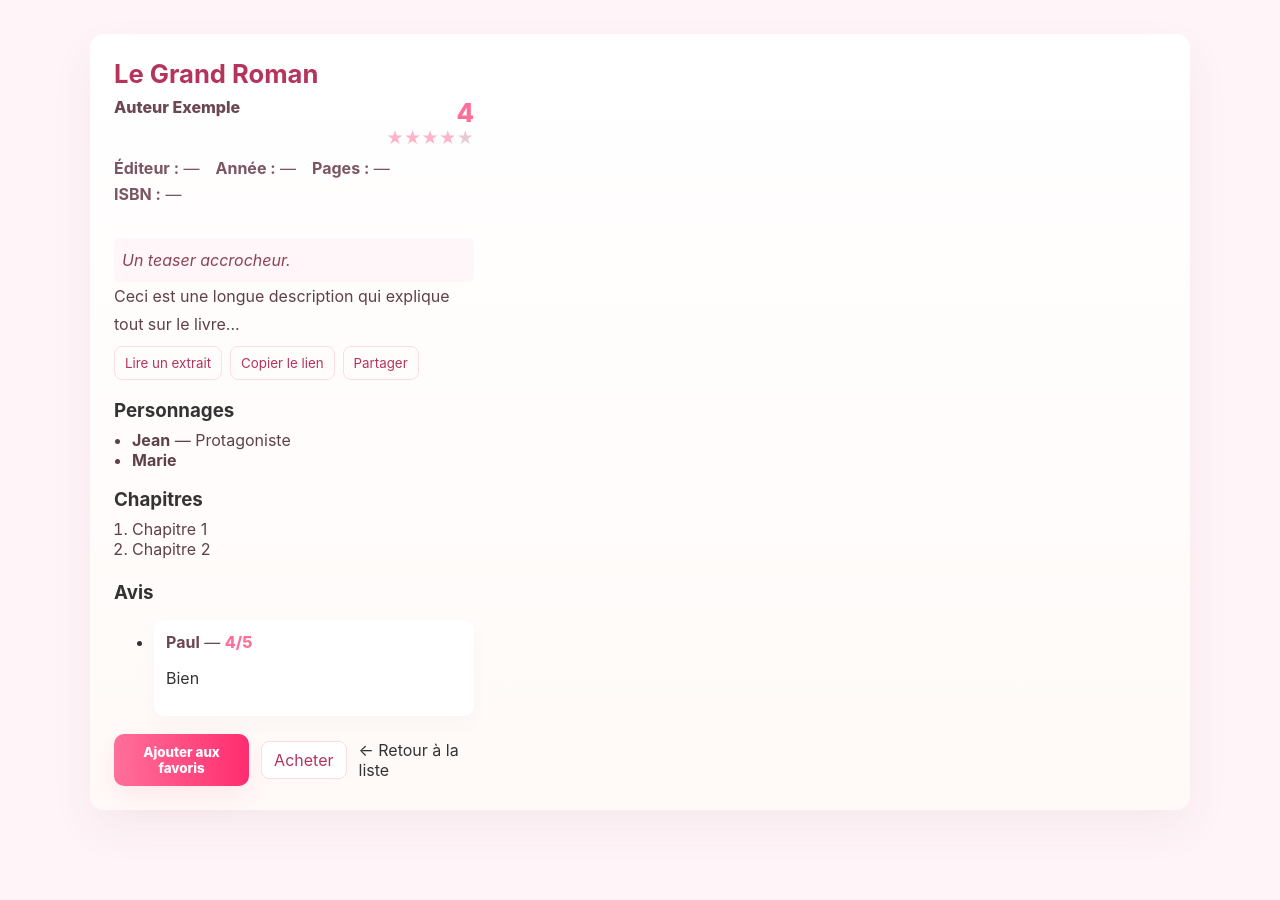
Test: renders teaser and characters and opens excerpt modal
Check: the heading "Le Grand Roman" is shown, box x1=114 y1=58 x2=318 y2=89
Check: the text "Un teaser accrocheur." is shown, box x1=114 y1=238 x2=474 y2=282
# open excerpt
Click the button "Lire un extrait".
click(168, 363)  # box x1=114 y1=346 x2=222 y2=380
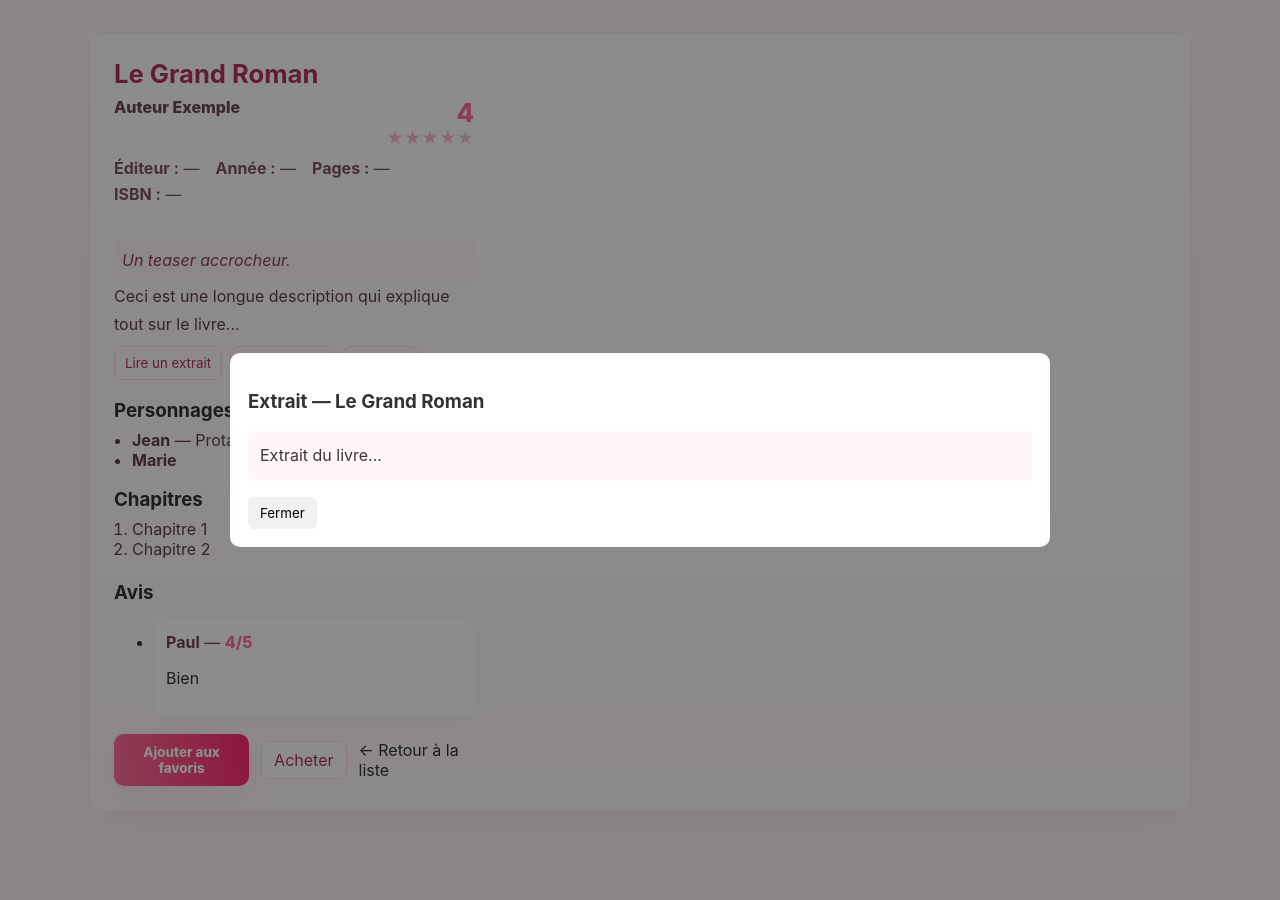
Check: the text "Extrait du livre..." is shown, box x1=248 y1=431 x2=1032 y2=481
Click the button "Fermer".
click(282, 513)  # box x1=248 y1=497 x2=317 y2=529
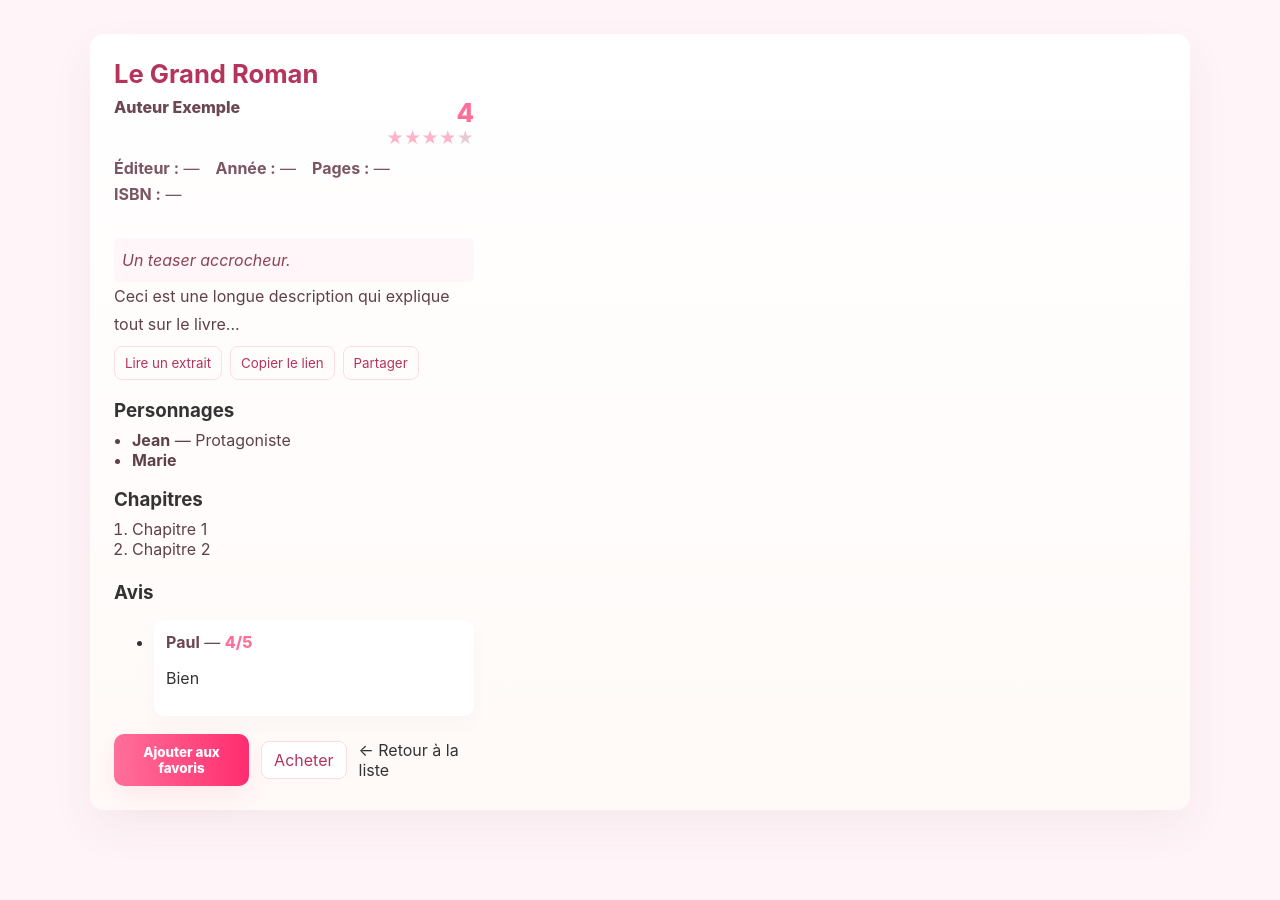
Check: the text "Extrait du livre" is gone
